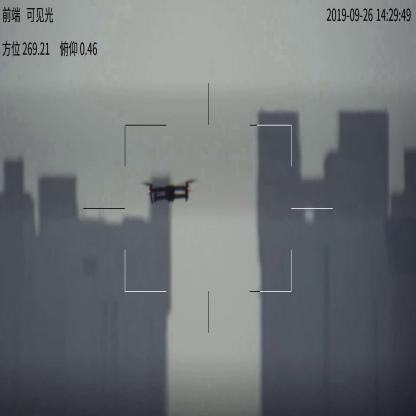uav: (140, 176, 200, 206)
